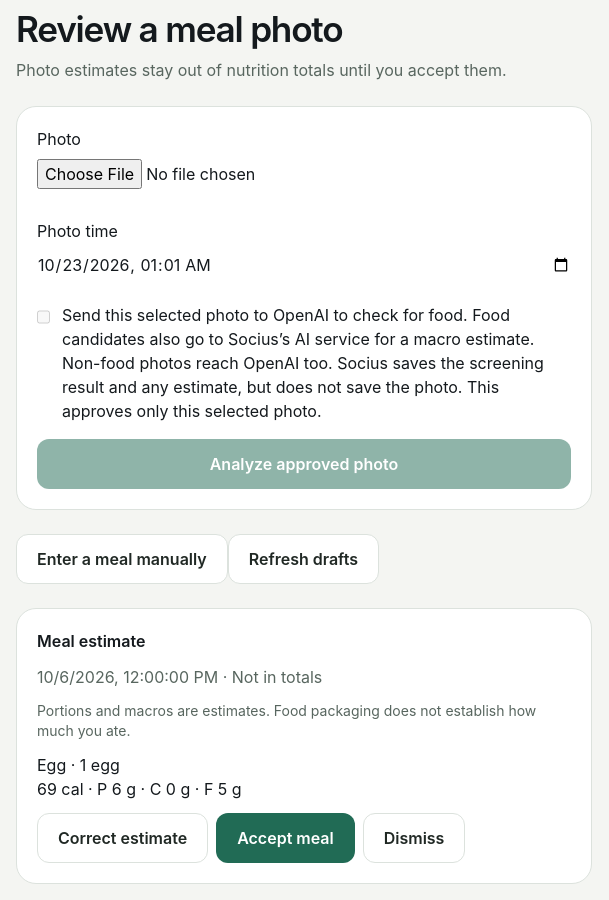
photo review UI › dismisses only after the explicit action and retains uncertainty after a lost response
Expected: the text "Egg · 1 egg69 cal · P 6 g · C 0 g · F 5 g" is shown, [37,755,242,799]
Click the button "Dismiss".
click(414, 838)  # box [363,813,465,863]
(page scrolled)
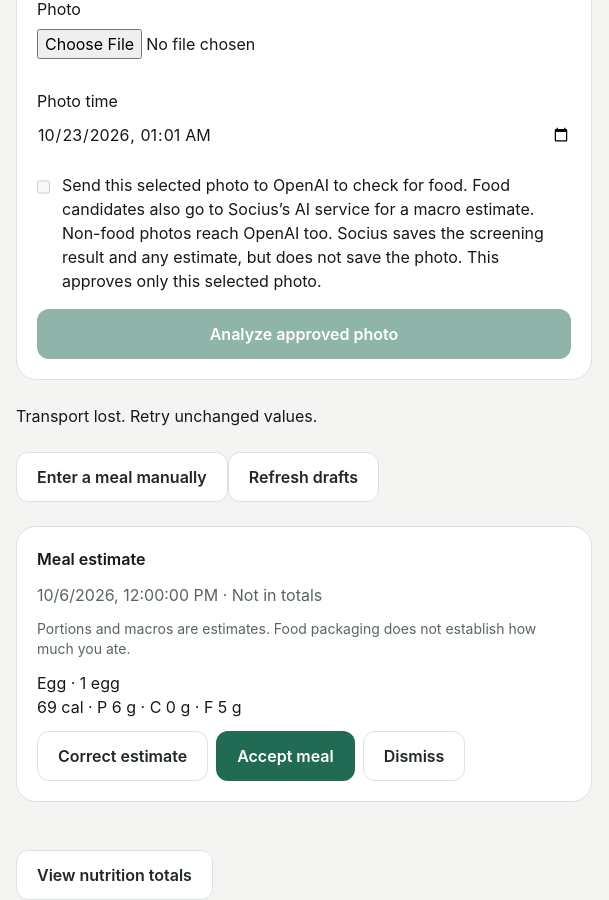
Expected: the button "Accept meal" is shown, [216,731,355,781]
Result: the text "Transport lost. Retry unchanged values." is shown at [16,406,317,426]
